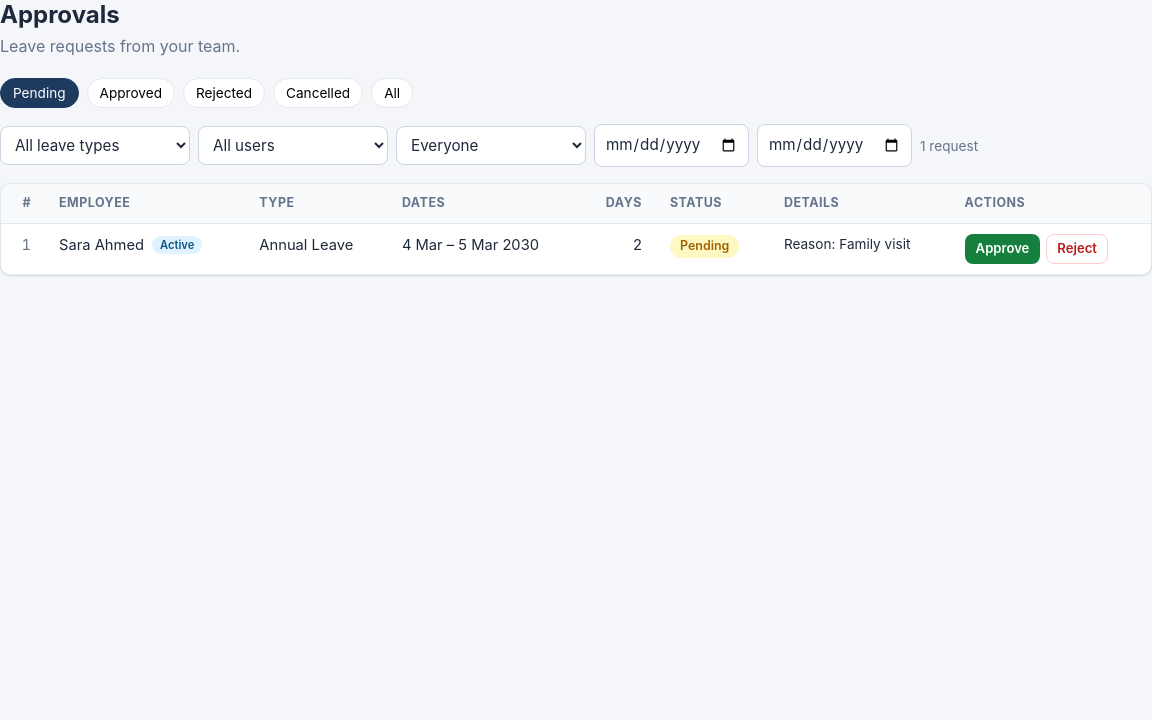
Test: ApprovalsPage › shows the API's refusal (e.g. not your team) inside the dialog
Click the button "Approve" at (1002, 249), box [965, 234, 1040, 264]
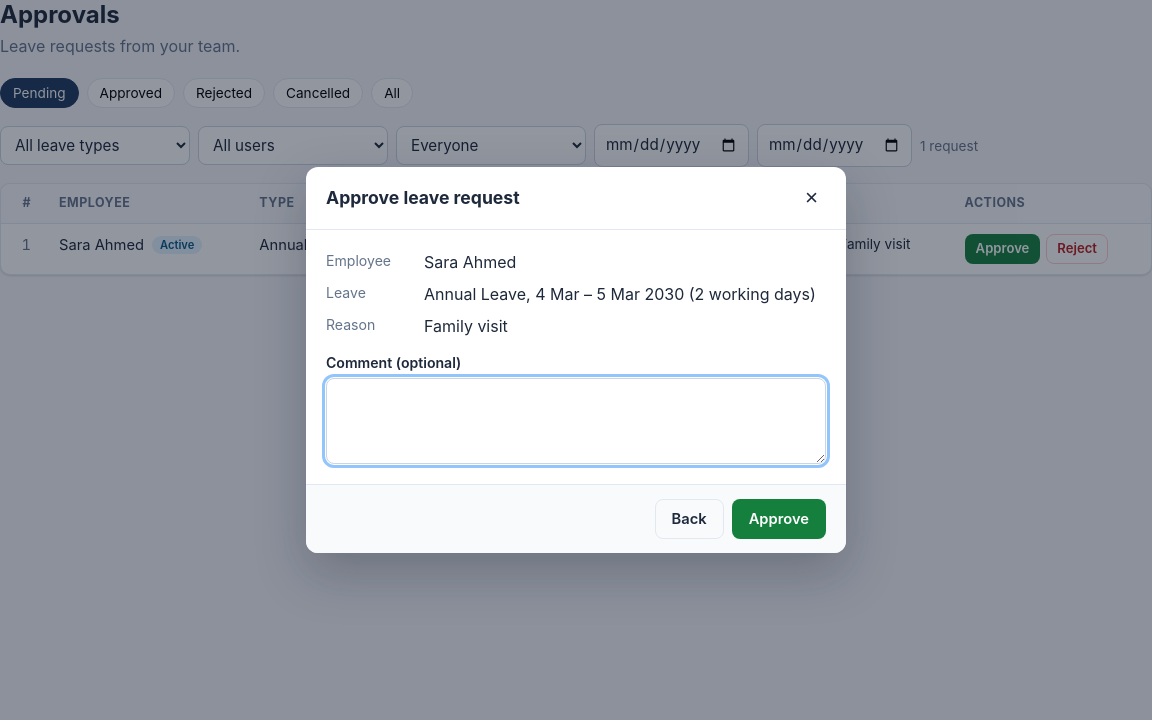
Click the button "Approve" at (779, 519), box [732, 499, 826, 539]
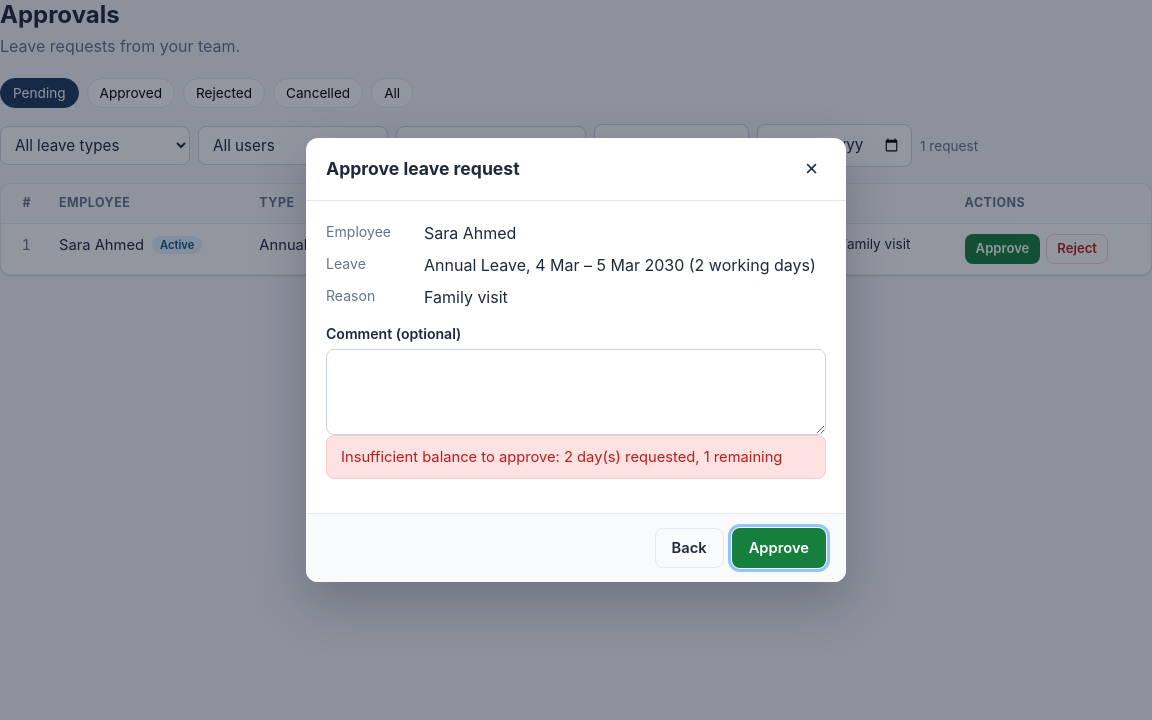
Result: the text "Insufficient balance to approve" is shown at [341, 448, 782, 466]
